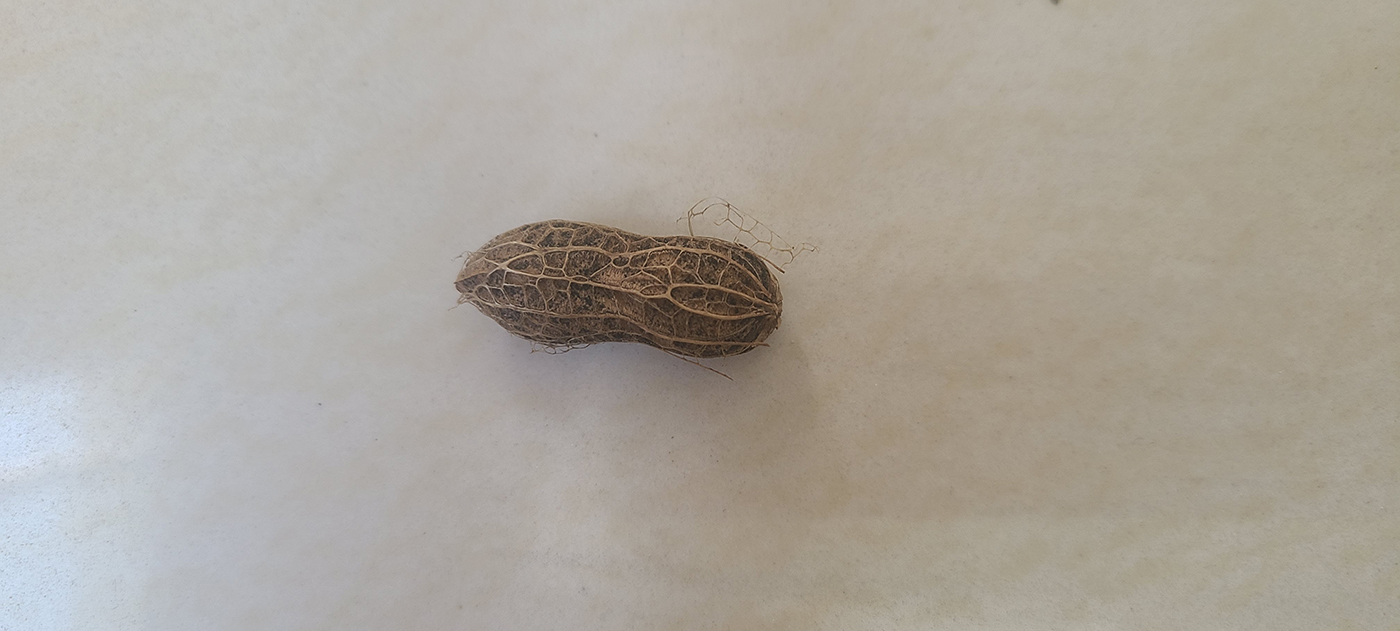l: (454, 221, 784, 357)
